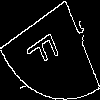F: (25, 25, 66, 74)
